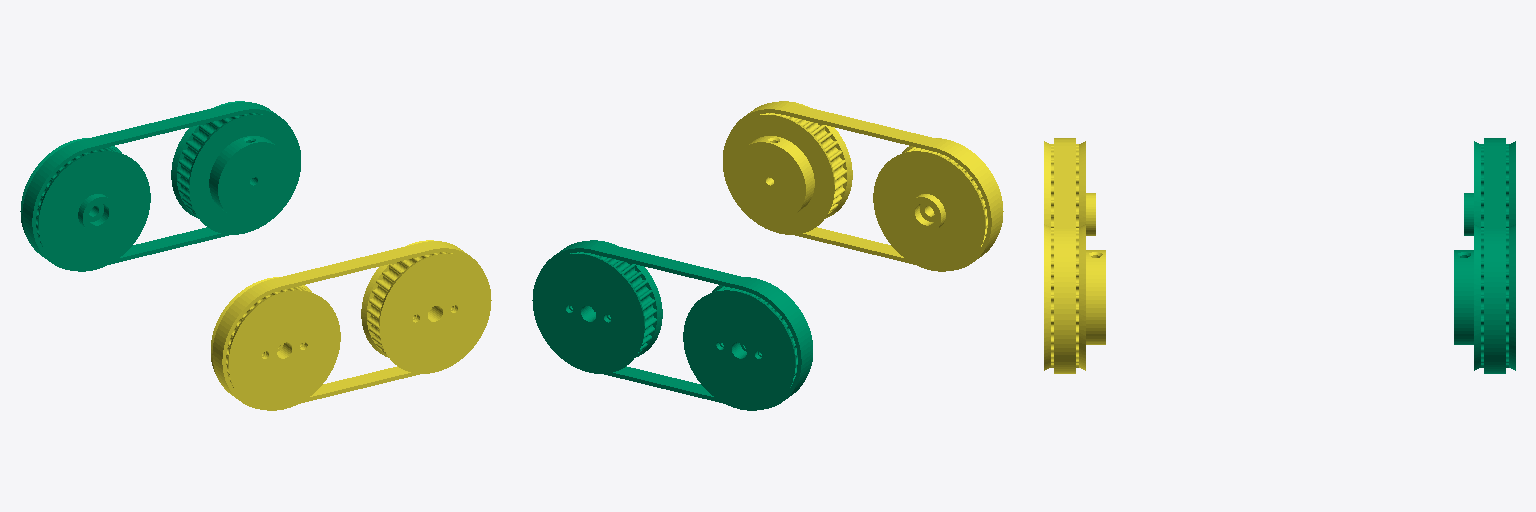
The robot description file, URDF, robot "road100_rgbd":
<?xml version="1.0" ?>
<robot name="road100_rgbd" xmlns:xacro="http://www.ros.org/wiki/xacro">

  <link name="base_footprint" />

  <link name="base_link">
    <inertial>
      <origin xyz="0.0 0.0 0.0" rpy="0 0 0"/>
      <mass value="2.9675633650363595"/>
      <inertia ixx="0.011642" iyy="0.035651" izz="0.038255" ixy="0.000148" iyz="-9.3e-05" ixz="0.000342"/>
    </inertial>
    <visual>
      <origin xyz="0 0 0" rpy="0 0 0"/>
      <geometry>
        <mesh filename="package://road100_description/meshes/base_link_rgbd_.stl" scale="0.001 0.001 0.001"/>
      </geometry>
    </visual>
    <collision>
      <origin xyz="0 0 0" rpy="0 0 0"/>
      <geometry>
        <mesh filename="package://road100_description/meshes/base_link_rgbd_.stl" scale="0.001 0.001 0.001"/>
      </geometry>
    </collision>
  </link>

  <joint name="base_footprint_joint" type="fixed">
    <parent link="base_footprint"/>
    <child link="base_link"/>
    <origin xyz="0 0 0" rpy="0 0 0"/>
  </joint>

  <link name="left_wheel_set">
    <visual>
      <origin xyz="0 0 0" rpy="0 0 0"/>
      <geometry>
        <mesh filename="package://road100_description/meshes/left_wheel_set.stl" scale="0.001 0.001 0.001"/>
      </geometry>
    </visual>
  </link>

  <joint name="left_wheel_set_joint" type="fixed">
    <parent link="base_link"/>
    <child link="left_wheel_set"/>
    <origin xyz="0 0 0" rpy="0 0 0"/>
  </joint>

  <link name="right_wheel_set">
    <visual>
      <origin xyz="0 0 0" rpy="0 0 0"/>
      <geometry>
        <mesh filename="package://road100_description/meshes/right_wheel_set.stl" scale="0.001 0.001 0.001"/>
      </geometry>
    </visual>
  </link>

  <joint name="right_wheel_set_joint" type="fixed">
    <parent link="base_link"/>
    <child link="right_wheel_set"/>
    <origin xyz="0 0 0" rpy="0 0 0"/>
  </joint>


  <link name="left_front_wheel">
    <inertial>
      <origin xyz="0 0 0" rpy="0 1.5707 1.5707"/>
      <mass value="0.1"/>
      <inertia ixx="0.000025" ixy="0" ixz="0" iyy="0.000025" iyz="0" izz="0.000045"/>
    </inertial>
    <collision>
      <origin xyz="0 0 0" rpy="0 1.5707 1.5707"/>
      <geometry>
        <cylinder length="0.0165" radius="0.03"/>
      </geometry>
    </collision>
  </link>
  <joint name="left_front_wheel_joint" type="continuous">
    <parent link="base_link"/>
    <child link="left_front_wheel"/>
    <origin xyz="0.0395 0.08 0" rpy="0 0 0"/>
    <axis xyz="0 1 0" />
    <limit effort="10" velocity="100" />
  </joint>

  <link name="right_front_wheel">
    <inertial>
      <origin xyz="0 0 0" rpy="0 1.5707 1.5707"/>
      <mass value="0.1"/>
      <inertia ixx="0.000025" ixy="0" ixz="0" iyy="0.000025" iyz="0" izz="0.000045"/>
    </inertial>
    <collision>
      <origin xyz="0 0 0" rpy="0 1.5707 1.5707"/>
      <geometry>
        <cylinder length="0.0165" radius="0.03"/>
      </geometry>
    </collision>
  </link>
  <joint name="right_front_wheel_joint" type="continuous">
    <parent link="base_link"/>
    <child link="right_front_wheel"/>
    <origin xyz="0.0395 -0.08 0" rpy="0 0 0"/>
    <axis xyz="0 1 0" />
    <limit effort="10" velocity="100" />
  </joint>

  <link name="left_rear_wheel">
    <inertial>
      <origin xyz="0 0 0" rpy="0 1.5707 1.5707"/>
      <mass value="0.1"/>
      <inertia ixx="0.000025" ixy="0" ixz="0" iyy="0.000025" iyz="0" izz="0.000045"/>
    </inertial>
    <collision>
      <origin xyz="0 0 0" rpy="0 1.5707 1.5707"/>
      <geometry>
        <cylinder length="0.0165" radius="0.03"/>
      </geometry>
    </collision>
  </link>
  <joint name="left_rear_wheel_joint" type="continuous">
    <parent link="base_link"/>
    <child link="left_rear_wheel"/>
    <origin xyz="-0.0395 0.08 0" rpy="0 0 0"/>
    <axis xyz="0 1 0" />
    <limit effort="10" velocity="100" />
  </joint>

  <link name="right_rear_wheel">
    <inertial>
      <origin xyz="0 0 0" rpy="0 1.5707 1.5707"/>
      <mass value="0.1"/>
      <inertia ixx="0.000025" ixy="0" ixz="0" iyy="0.000025" iyz="0" izz="0.000045"/>
    </inertial>
    <collision>
      <origin xyz="0 0 0" rpy="0 1.5707 1.5707"/>
      <geometry>
        <cylinder length="0.0165" radius="0.03"/>
      </geometry>
    </collision>
  </link>
  <joint name="right_rear_wheel_joint" type="continuous">
    <parent link="base_link"/>
    <child link="right_rear_wheel"/>
    <origin xyz="-0.0395 -0.08 0" rpy="0 0 0"/>
    <axis xyz="0 1 0" />
    <limit effort="10" velocity="100" />
  </joint>

  <link name="lidar_link">
    <inertial>
      <mass value="0.01"/>
      <inertia ixx="0.00004" ixy="0" ixz="0" iyy="0.00004" iyz="0" izz="0.00004"/>
    </inertial>
    <collision>
      <origin rpy="0 0 0" xyz="0 0 0"/>
      <geometry>
        <sphere radius="0.01"/>
      </geometry>
    </collision>
  </link>
  <joint name="lidar_joint" type="fixed">
    <origin xyz="0 0 0.083" rpy="0 0 0"/>
    <parent link="base_link"/>
    <child link="lidar_link"/>
  </joint>

  <link name="camera_link">
    <inertial>
      <mass value="0.01"/>
      <inertia ixx="0.00004" ixy="0" ixz="0" iyy="0.00004" iyz="0" izz="0.00004"/>
    </inertial>
    <collision>
      <origin rpy="0 0 0" xyz="0 0 0"/>
      <geometry>
        <sphere radius="0.01"/>
      </geometry>
    </collision>
  </link>
  <joint name="camera_joint" type="fixed">
    <origin xyz="0.10025 0 0.0325" rpy="0 0 0"/>
    <parent link="base_link"/>
    <child link="camera_link"/>
  </joint>

</robot>

--- What the picture shows (computed from the rendered views, not written in the file) ---
3 views of the same robot in one strip: view 1: azimuth 30°, elevation 25°; view 2: azimuth 150°, elevation 25°; view 3: azimuth 270°, elevation 25° (orthographic).
Robot: road100_rgbd — 10 links, 9 joints (4 continuous, 5 fixed); root link base_footprint; default pose: all joints at 0.
Links seen in each view (by area): view 1: left_wheel_set, right_wheel_set; view 2: left_wheel_set, right_wheel_set; view 3: left_wheel_set, right_wheel_set.
Link boxes in pixels (bbox=[...]): left_wheel_set: bbox=[20, 101, 300, 271]; right_wheel_set: bbox=[211, 240, 491, 410]; left_wheel_set: bbox=[532, 240, 812, 410]; right_wheel_set: bbox=[723, 101, 1003, 271]; left_wheel_set: bbox=[1454, 138, 1515, 373]; right_wheel_set: bbox=[1044, 138, 1105, 373].
Size in the robot's own frame: 0.14 by 0.189 by 0.061 metres.
Meshes: 3 distinct files referenced, 2 mesh visuals loaded (2 binary STL); not drawn: 1 (reference not matched to a file when rendering).